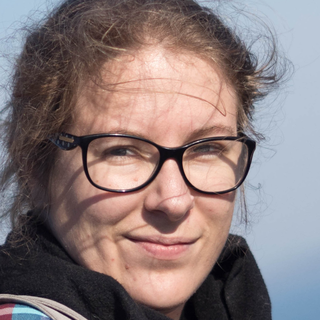eye: (100, 143, 146, 164), (189, 139, 231, 162)
